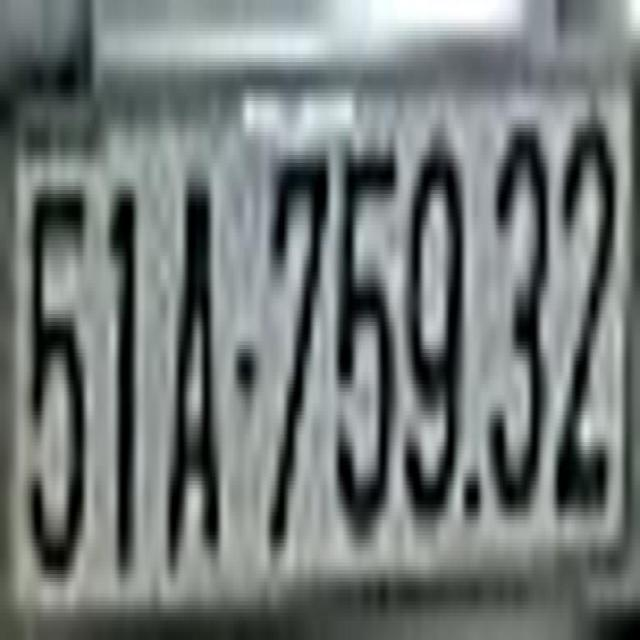1: (106, 158, 138, 566)
2: (554, 97, 618, 512)
3: (490, 124, 550, 500)
5: (337, 124, 401, 535), (27, 170, 91, 566)
7: (269, 144, 335, 532)
9: (404, 135, 462, 528)
A: (165, 178, 220, 586)
